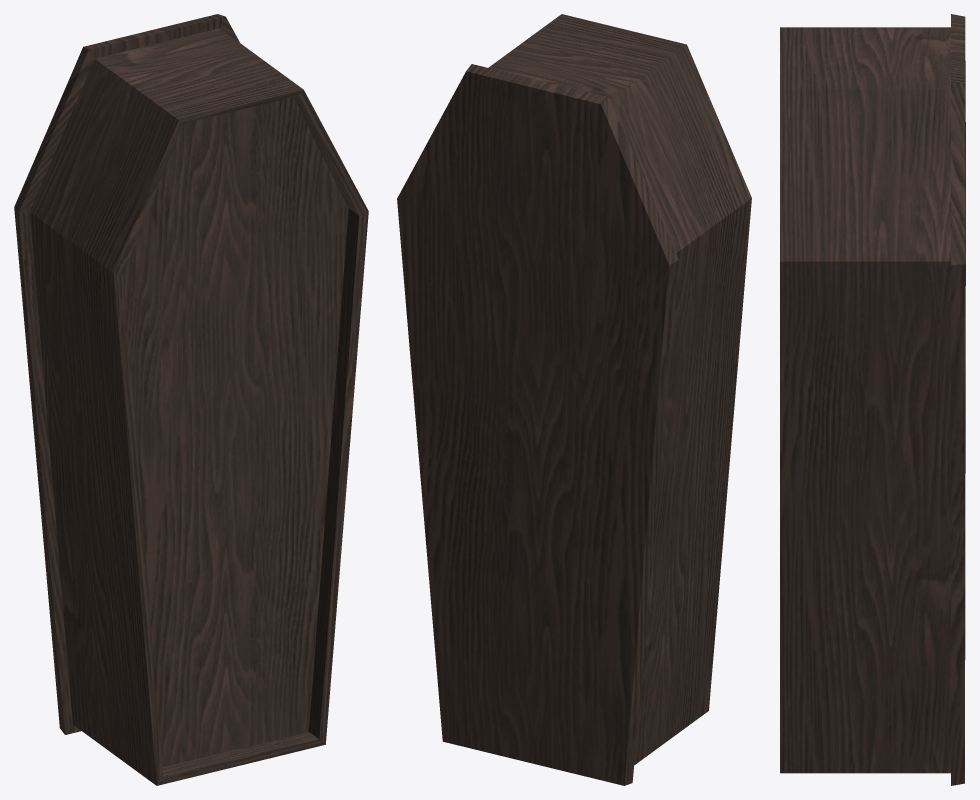
File: Ataud_CapaNegra.fbx
The picture shows the model from 3 angles, left to right: view 1: azimuth 30°, elevation 25°; view 2: azimuth 150°, elevation 25°; view 3: azimuth 270°, elevation 25°; orthographic projection.
Parts seen in each view (by area): view 1: s, Coffin 2; view 2: Coffin 2; view 3: Coffin 2.
Part boxes in pixels (x1,y1,x2,y2): s: (123, 97, 348, 767); Coffin 2: (14, 14, 368, 785); Coffin 2: (397, 14, 751, 785); Coffin 2: (780, 14, 965, 785).
Size of the model in its own units: 86.96 by 204 by 49.5.
